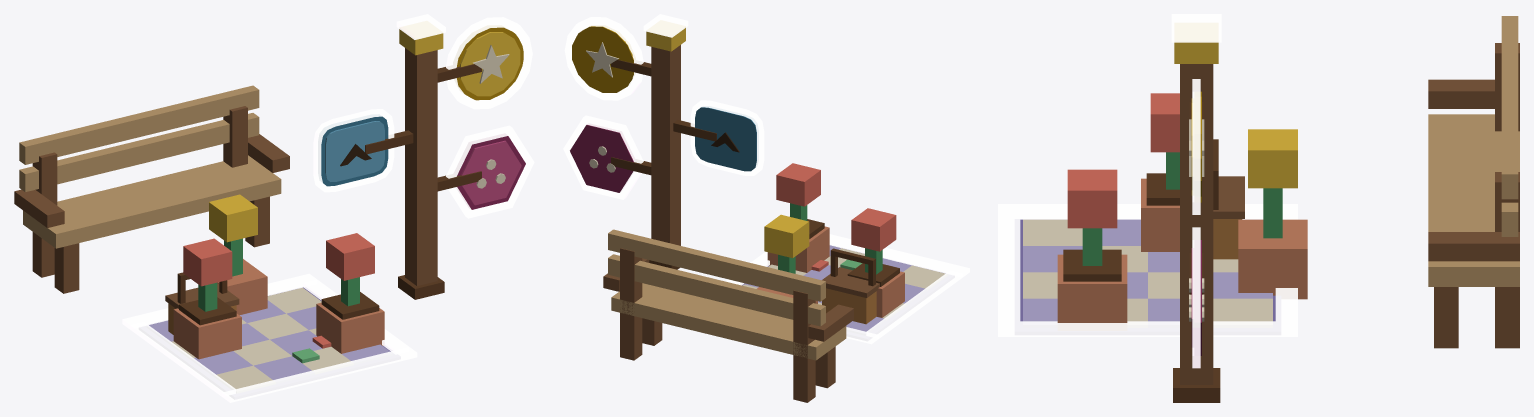
File: play-with-friends-station.glb
3 renders of one model, left to right at view 1: azimuth 30°, elevation 25°; view 2: azimuth 150°, elevation 25°; view 3: azimuth 270°, elevation 25°, orthographic. The views are drawn at different scales.
Parts seen in each view (by area): view 1: on, base, off, highlight; view 2: on, base, highlight, off; view 3: on, base, off, highlight.
Boxes of the visible parts, x1,y1,x2,y2 form: on: [149, 27, 525, 389]; base: [14, 85, 289, 293]; off: [173, 194, 384, 359]; highlight: [122, 14, 534, 402]; on: [570, 26, 945, 331]; base: [603, 229, 853, 402]; highlight: [563, 14, 969, 344]; off: [757, 163, 904, 317]; on: [1020, 42, 1275, 402]; base: [1428, 16, 1519, 348]; off: [1057, 93, 1307, 322]; highlight: [998, 14, 1297, 368].
Size of the model in its own units: 4.64 by 2.93 by 3.76.
